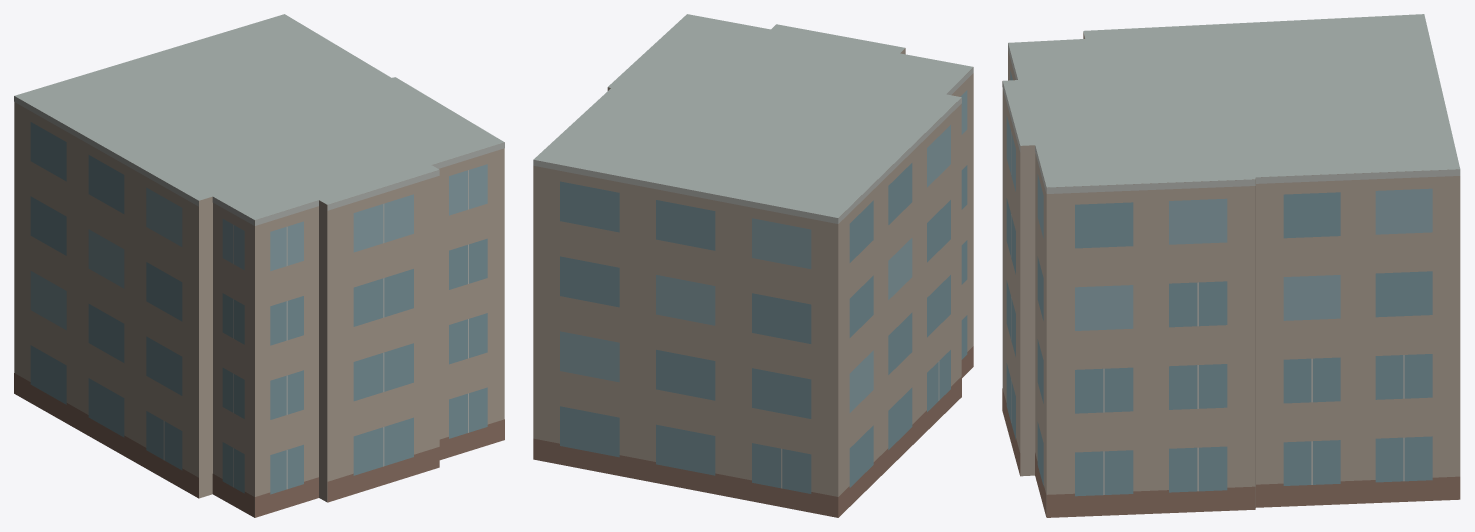
The model's file is survey-upis-32663688.glb.
3 renders of one model, left to right at view 1: azimuth 30°, elevation 25°; view 2: azimuth 150°, elevation 25°; view 3: azimuth 270°, elevation 25°, orthographic. The views are drawn at different scales.
Visible parts, largest first — view 1: survey-upis-32663688.tmp; view 2: survey-upis-32663688.tmp; view 3: survey-upis-32663688.tmp.
Boxes of the visible parts, <box> form: survey-upis-32663688.tmp: <box>14,14,504,517</box>; survey-upis-32663688.tmp: <box>533,14,973,517</box>; survey-upis-32663688.tmp: <box>1002,14,1460,517</box>.
Size of the model in its own units: 13.75 by 12.2 by 15.33.
